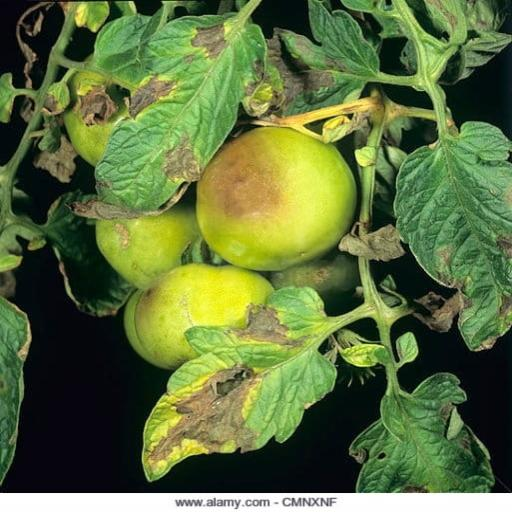disease_tomato: (70, 11, 270, 221), (141, 284, 337, 482)
